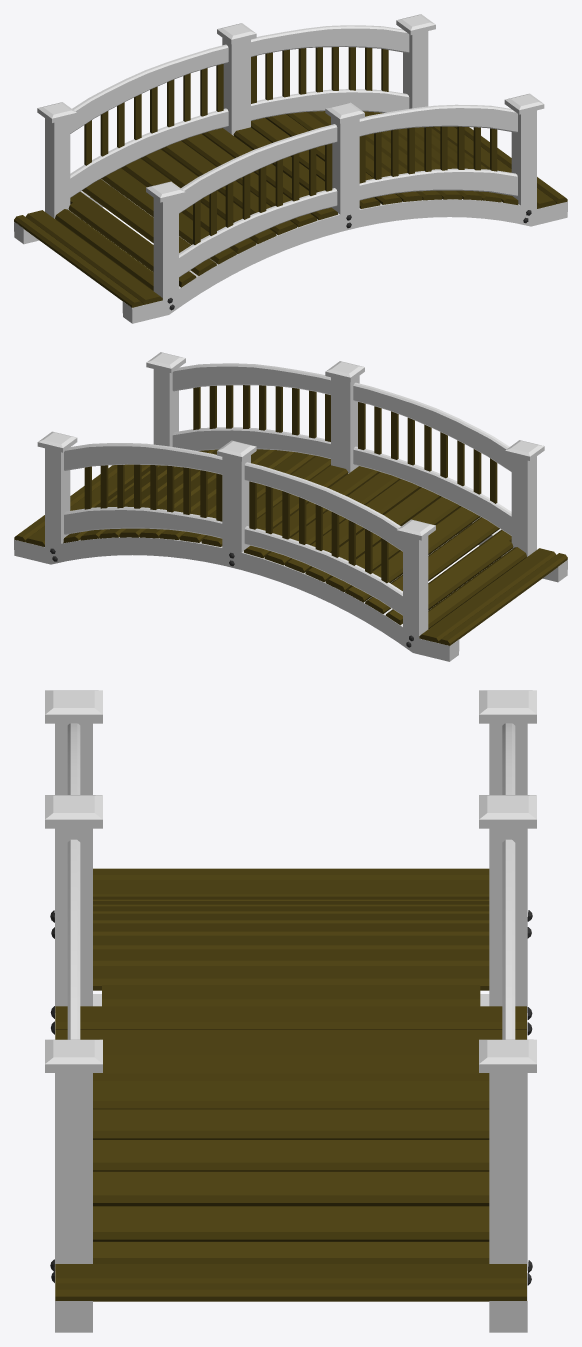
Rendered from bridgey_cowgame.fbx.
3 views of the same model, one above another, from view 1: azimuth 30°, elevation 25°; view 2: azimuth 150°, elevation 25°; view 3: azimuth 270°, elevation 25° (orthographic). The views are drawn at different scales.
Parts seen in each view (by area): view 1: polySurface12; view 2: polySurface12; view 3: polySurface12.
Part boxes in pixels (box(x1,y1,x2,y2)): polySurface12: box(14, 14, 567, 323); polySurface12: box(14, 352, 567, 661); polySurface12: box(45, 690, 536, 1332).
Size of the model in its own units: 0.6508 by 0.2255 by 0.3182.
